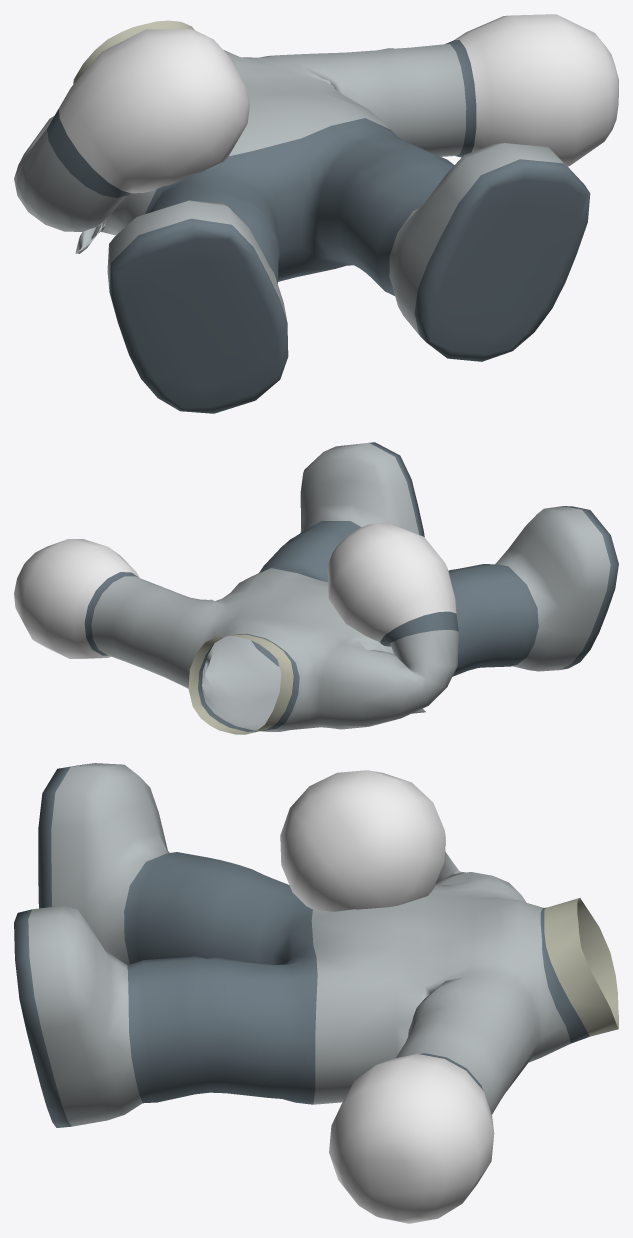
The model's file is scene_human3.fbx.
3 views of the same model, one above another, from view 1: azimuth 30°, elevation 25°; view 2: azimuth 150°, elevation 25°; view 3: azimuth 270°, elevation 25° (orthographic). The views are drawn at different scales.
Visible parts, largest first — view 1: body_N1; view 2: body_N1; view 3: body_N1.
Boxes of the visible parts, x1,y1,x2,y2 form: body_N1: (14, 14, 618, 413); body_N1: (14, 442, 618, 734); body_N1: (14, 763, 618, 1223).
Bounding box in the file's own units: 156 × 59.12 × 125.
